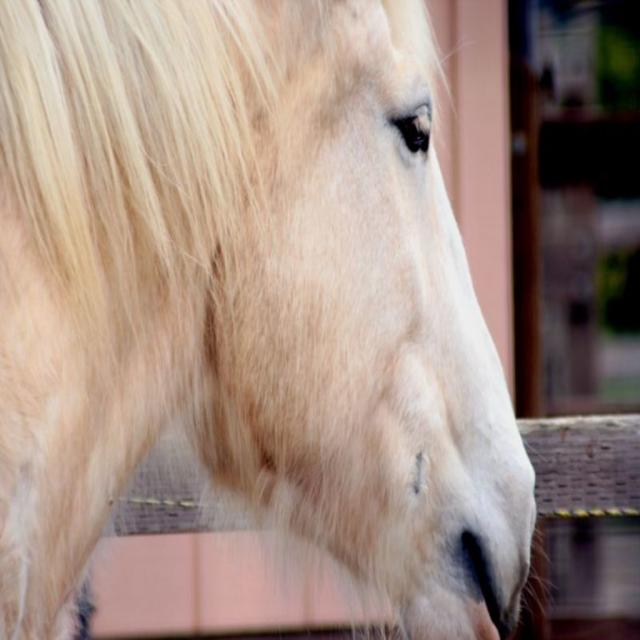Horse: (0, 0, 558, 639)
